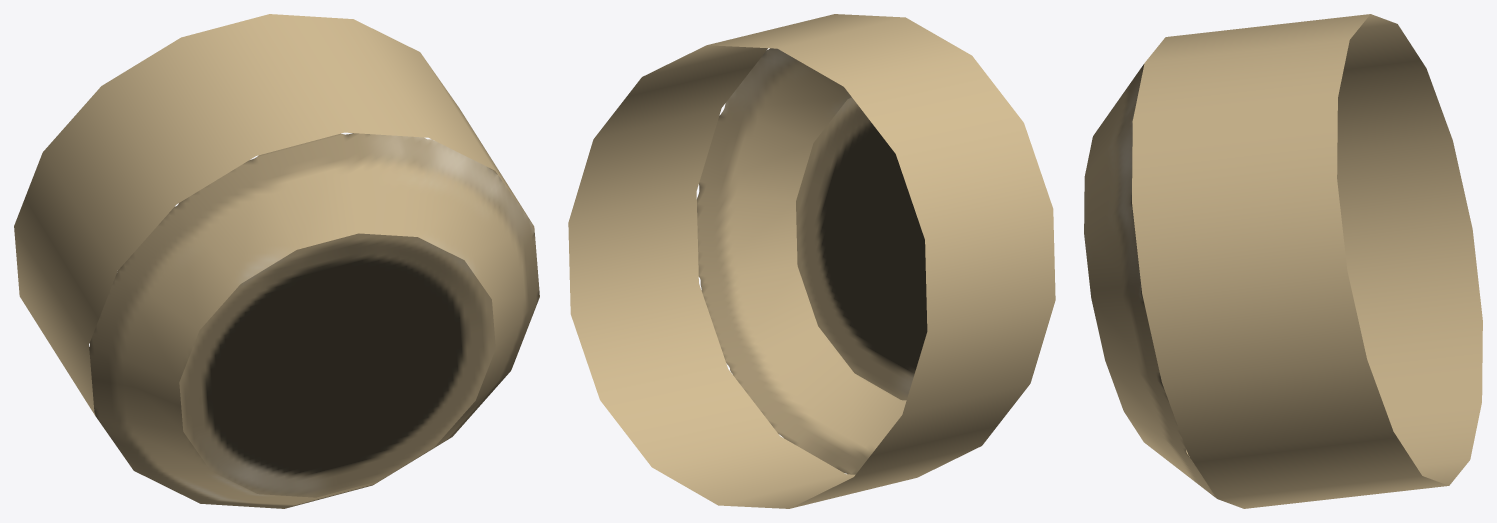
The model's file is Pipe_WallSocket.fbx.
3 renders of one model, left to right at view 1: azimuth 30°, elevation 25°; view 2: azimuth 150°, elevation 25°; view 3: azimuth 270°, elevation 25°, orthographic.
Visible parts, largest first — view 1: Pipe_WallSocket; view 2: Pipe_WallSocket; view 3: Pipe_WallSocket.
Part boxes in pixels (left/top/right/bottom): Pipe_WallSocket: left=14, top=14, right=539, bottom=508; Pipe_WallSocket: left=568, top=14, right=1055, bottom=508; Pipe_WallSocket: left=1084, top=14, right=1482, bottom=508.
Size of the model in its own units: 22.34 by 22.4 by 17.73.
